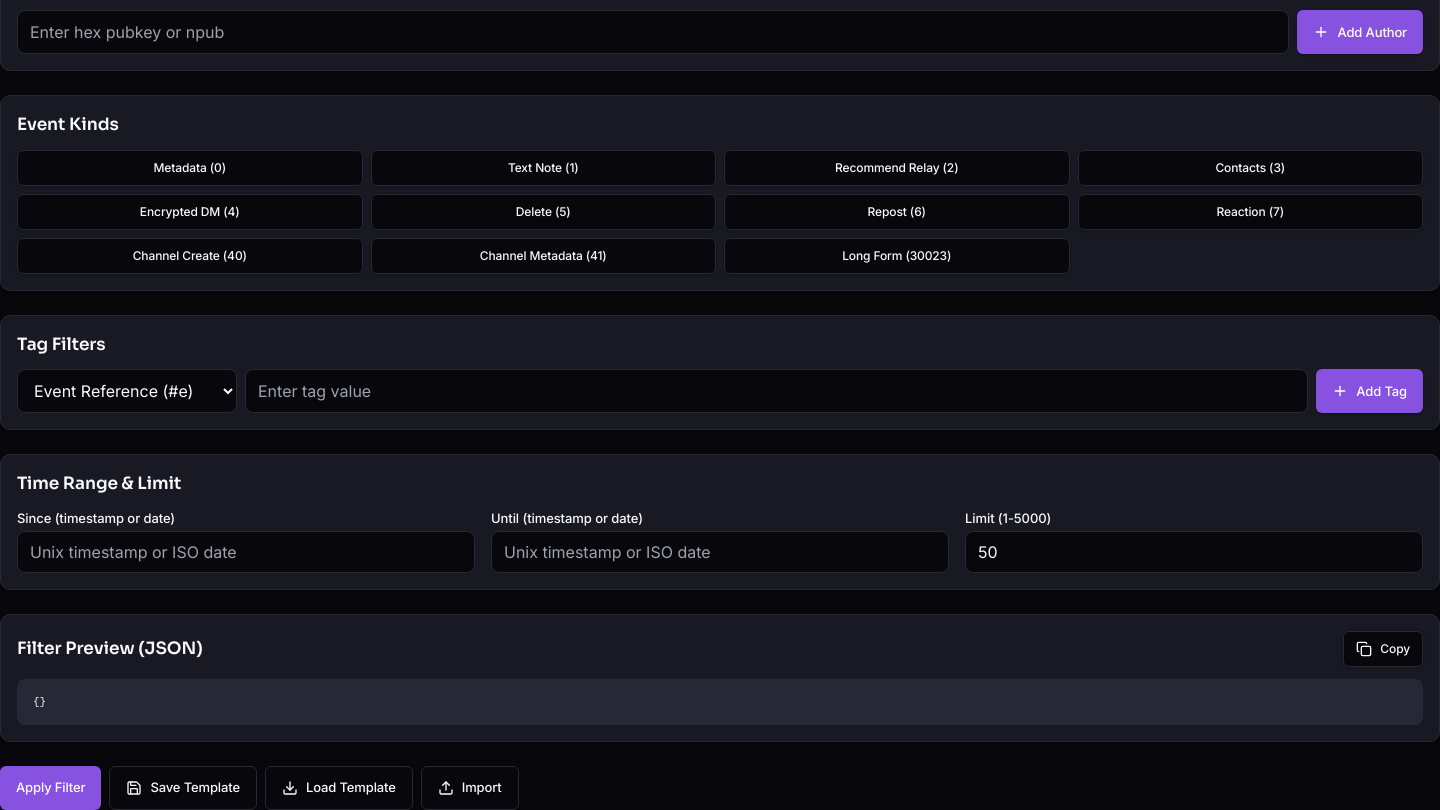
FilterBuilder › Validation › validates limit range
(page scrolled)
Replace the text in the number field named "Event limit" with "10000" at x=1194, y=552, box [965,531,1423,573]
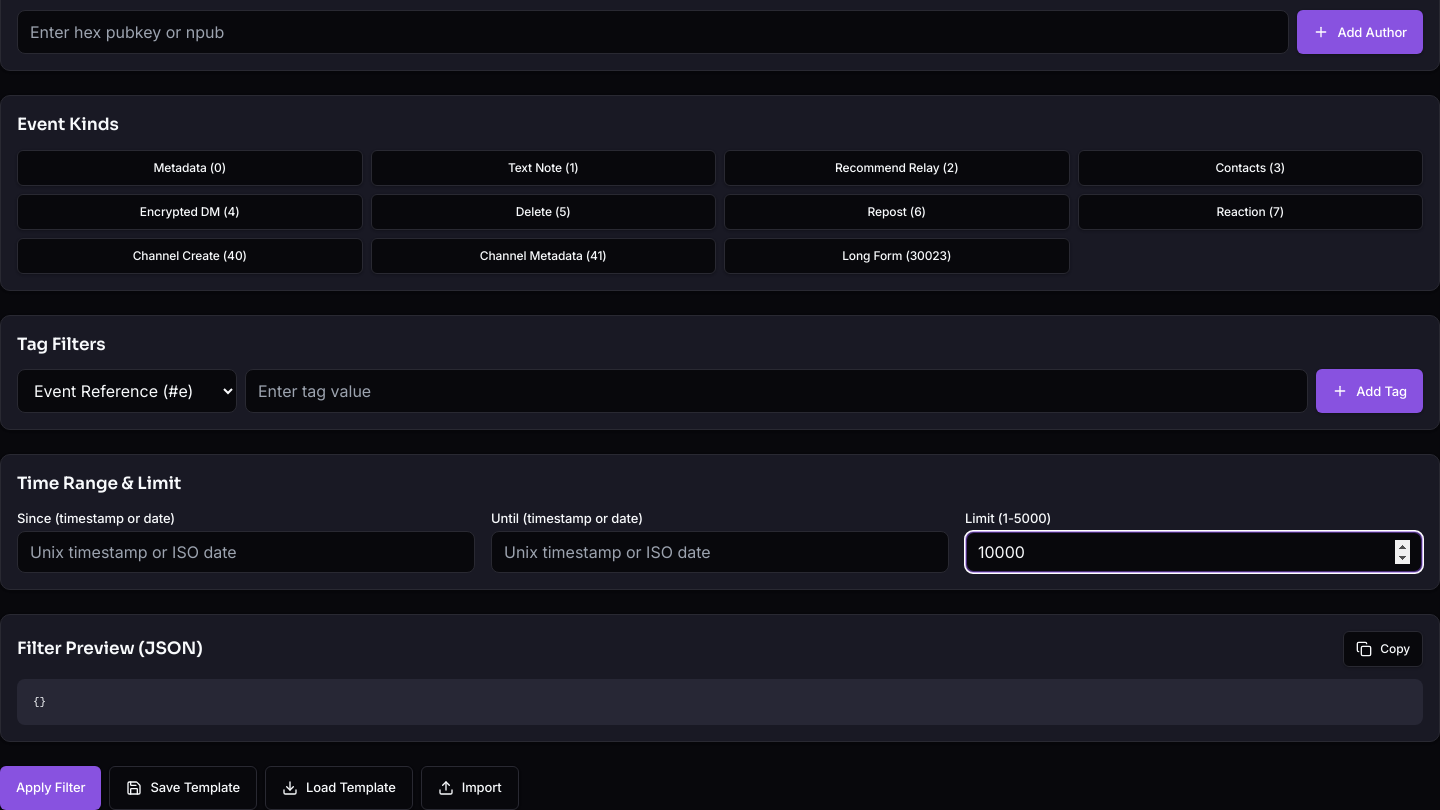
Validation triggers on blur
Leave the number field named "Event limit", box [965,531,1423,573]
(page scrolled)
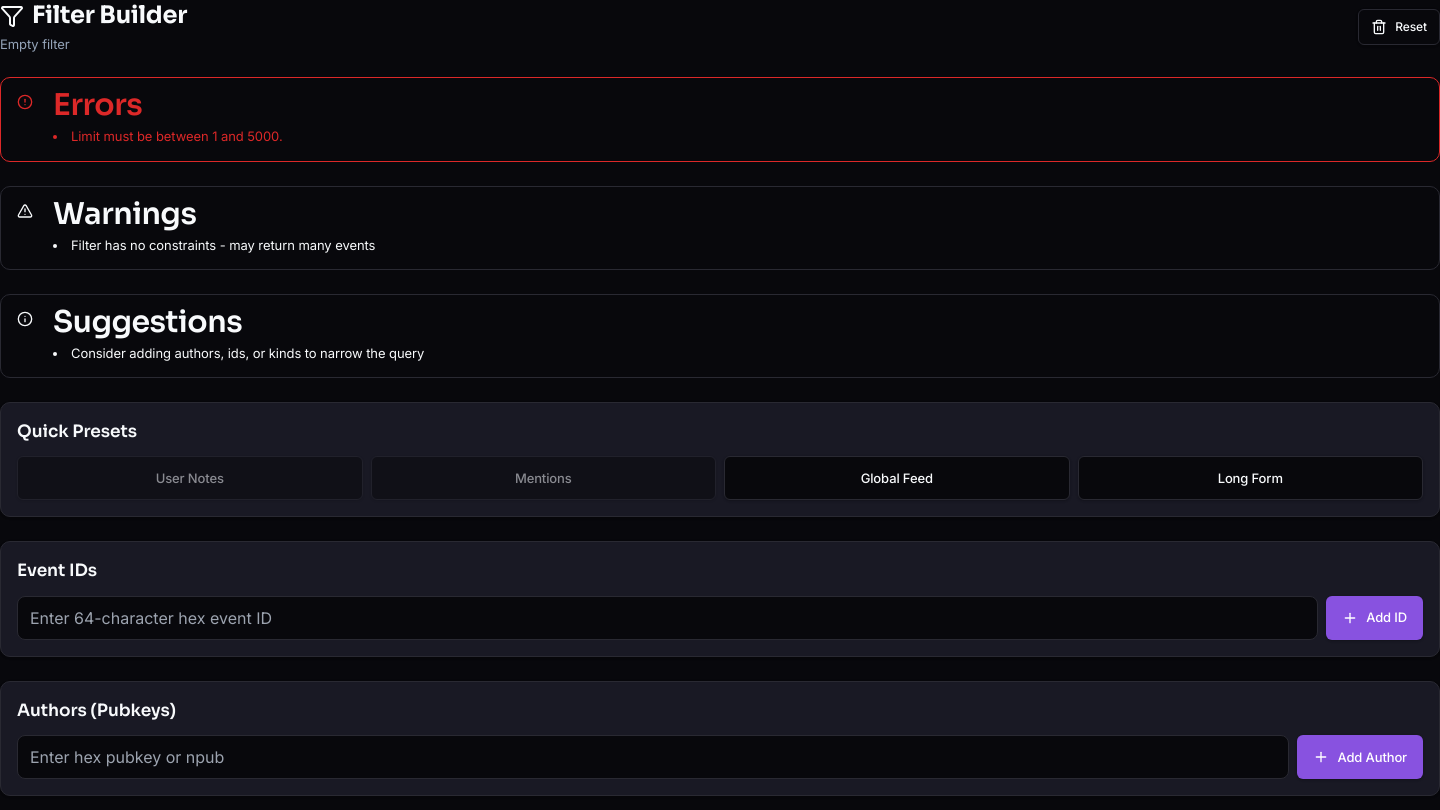
Check: the list item "Limit must be between 1 and 5000." is shown, box [71,128,283,144]
